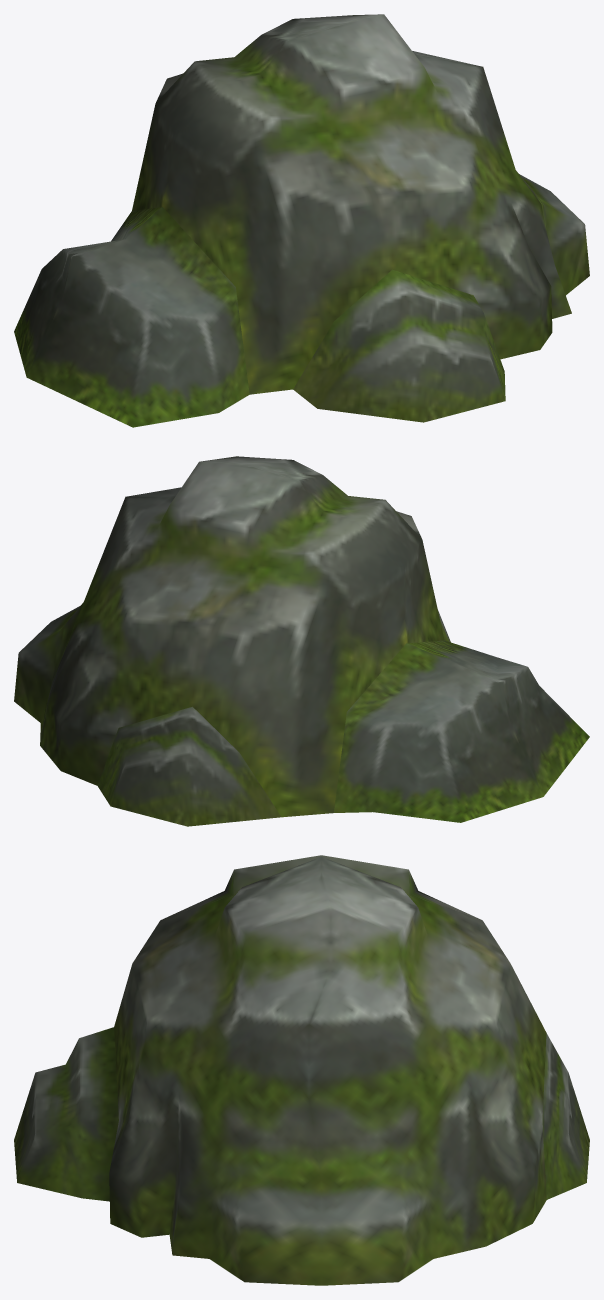
The model's file is shitou08_01.FBX.
3 views of the same model, one above another, from view 1: azimuth 30°, elevation 25°; view 2: azimuth 150°, elevation 25°; view 3: azimuth 270°, elevation 25° (orthographic). The views are drawn at different scales.
Parts seen in each view (by area): view 1: shitou08_01; view 2: shitou08_01; view 3: shitou08_01.
Boxes of the visible parts, <box> form: shitou08_01: <box>14,14,589,427</box>; shitou08_01: <box>14,456,589,826</box>; shitou08_01: <box>14,855,589,1285</box>.
Bounding box in the file's own units: 350 × 173 × 309.
1 material, 1 textured.
